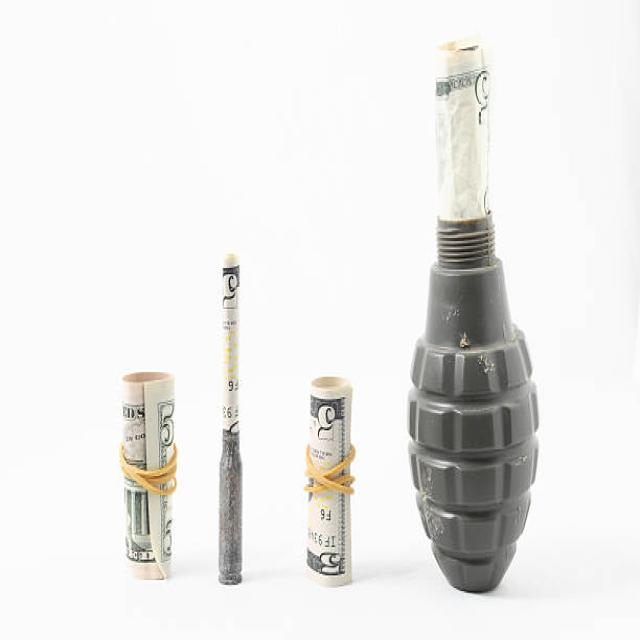grenade: (407, 213, 542, 599)
